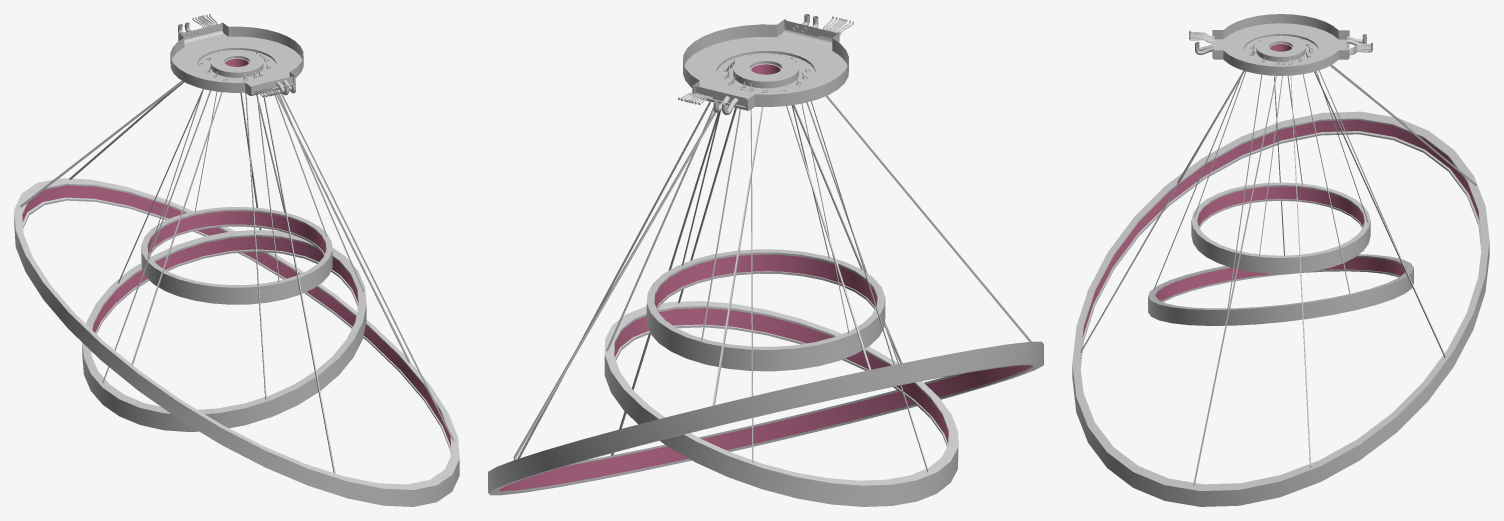
Rendered from Chandelier.fbx.
3 renders of one model, left to right at view 1: azimuth 30°, elevation 25°; view 2: azimuth 150°, elevation 25°; view 3: azimuth 270°, elevation 25°, orthographic. The views are drawn at different scales.
Visible parts, largest first — view 1: Circle.004; view 2: Circle.004; view 3: Circle.004.
Part boxes in pixels (left/top/right/bottom): Circle.004: left=14, top=14, right=459, bottom=506; Circle.004: left=488, top=14, right=1043, bottom=506; Circle.004: left=1072, top=14, right=1489, bottom=506.
Size of the model in its own units: 120432 by 123396 by 120432.
